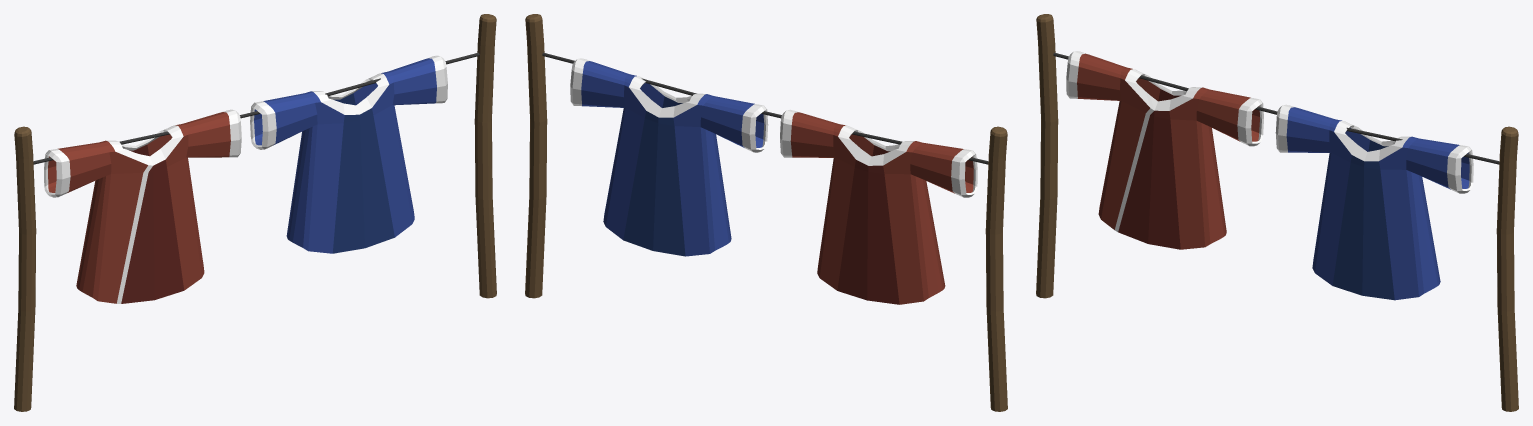
File: ClotheDrier_2.fbx
The picture shows the model from 3 angles, left to right: view 1: azimuth 30°, elevation 25°; view 2: azimuth 150°, elevation 25°; view 3: azimuth 330°, elevation 25°; orthographic projection.
Parts seen in each view (by area): view 1: ClotheDrier_2; view 2: ClotheDrier_2; view 3: ClotheDrier_2.
Boxes of the visible parts, bbox=[...] form: ClotheDrier_2: bbox=[14, 14, 496, 411]; ClotheDrier_2: bbox=[525, 14, 1007, 411]; ClotheDrier_2: bbox=[1036, 14, 1518, 411].
Bounding box in the file's own units: 213 × 118 × 23.31.
